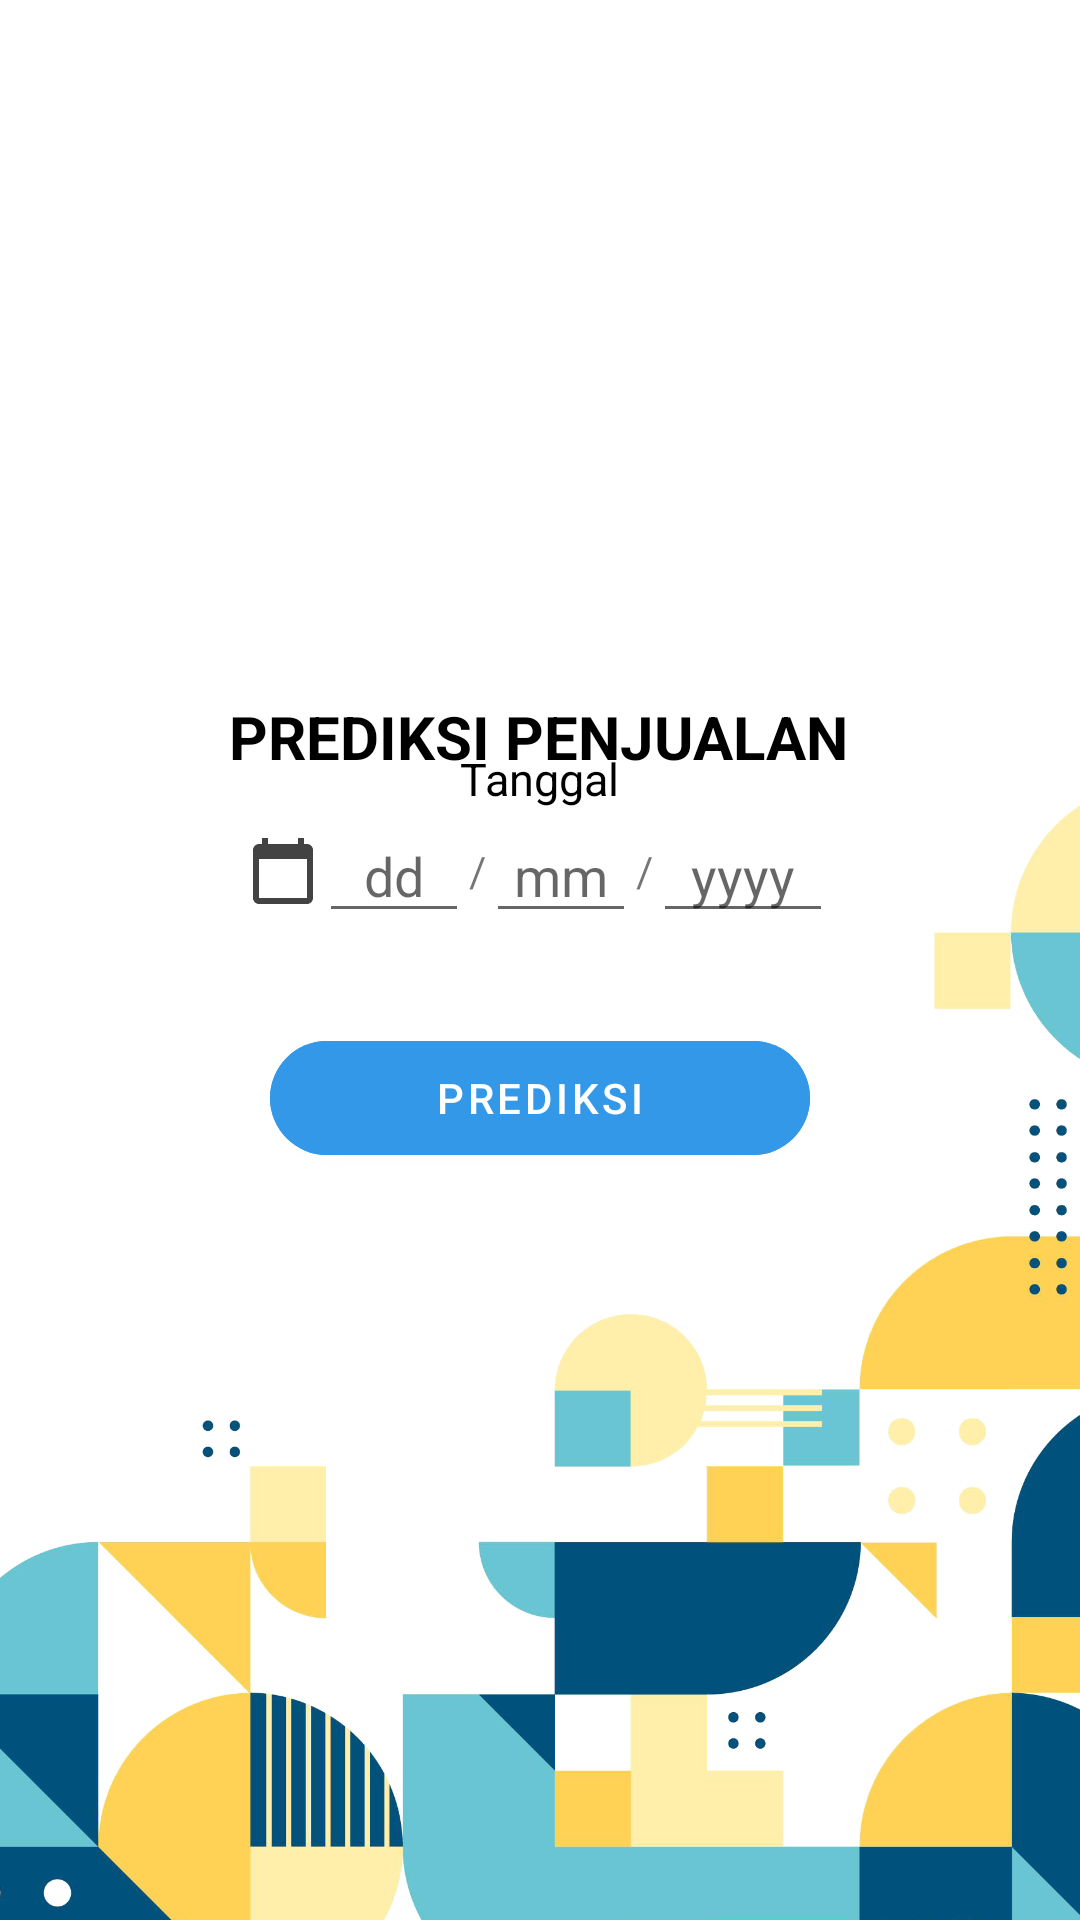

Point at icon controls on the screen. Image size 1080x1920, points as (x,y).
calendar: (283,871)
